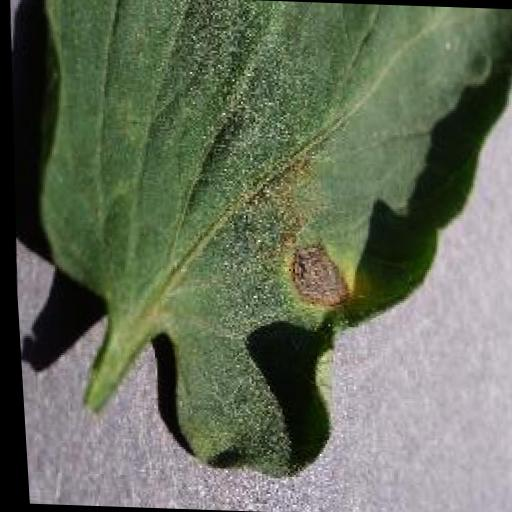Early Blight: (20, 0, 512, 491)
